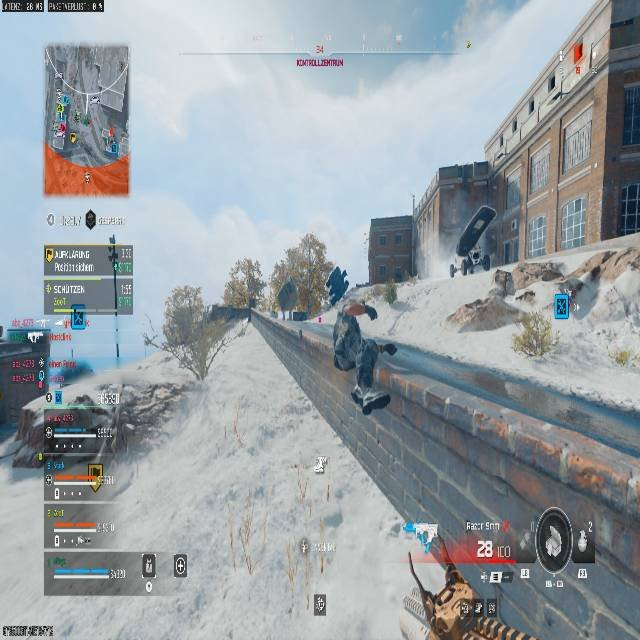head: (325, 266, 349, 304)
player: (398, 562, 542, 639), (324, 266, 396, 416), (449, 262, 456, 278)
